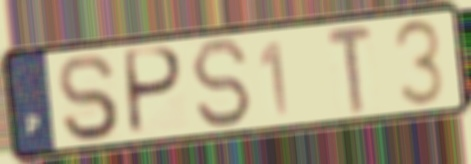1: (258, 38, 291, 118)
3: (391, 16, 447, 110)
P: (124, 44, 187, 139)
S: (56, 51, 123, 144), (188, 36, 254, 130)
T: (323, 24, 377, 117)
